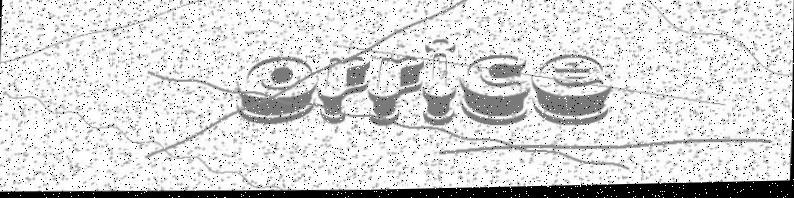c: (458, 55, 531, 130)
e: (531, 55, 614, 129)
i: (420, 38, 458, 129)
o: (235, 55, 319, 128)
r: (367, 57, 423, 129), (318, 55, 370, 127)
